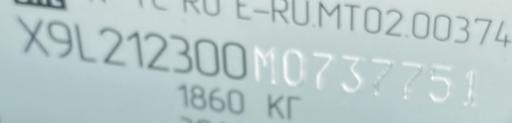letter: (16, 15, 48, 58), (96, 25, 128, 68), (427, 60, 457, 105), (72, 21, 102, 64), (338, 51, 366, 96), (366, 55, 394, 100), (44, 18, 74, 59), (142, 32, 172, 73), (220, 40, 250, 81), (397, 59, 423, 104), (192, 37, 220, 78), (252, 45, 280, 84), (280, 48, 308, 87), (168, 33, 194, 74), (310, 50, 334, 91), (460, 66, 480, 108), (125, 28, 145, 69)
